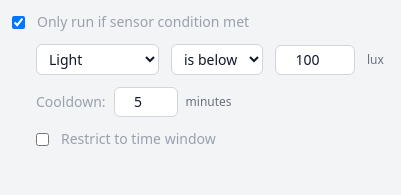
Test case: PreConditionForm › Field updates › shows validation error for empty threshold input
Clear the number field with test id "pre-condition-threshold-0" at (315, 60), box [275, 44, 355, 74]
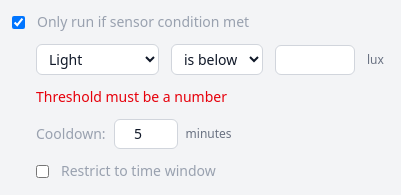
Expected: the message "Threshold must be a number" is shown, [36, 87, 227, 106]
